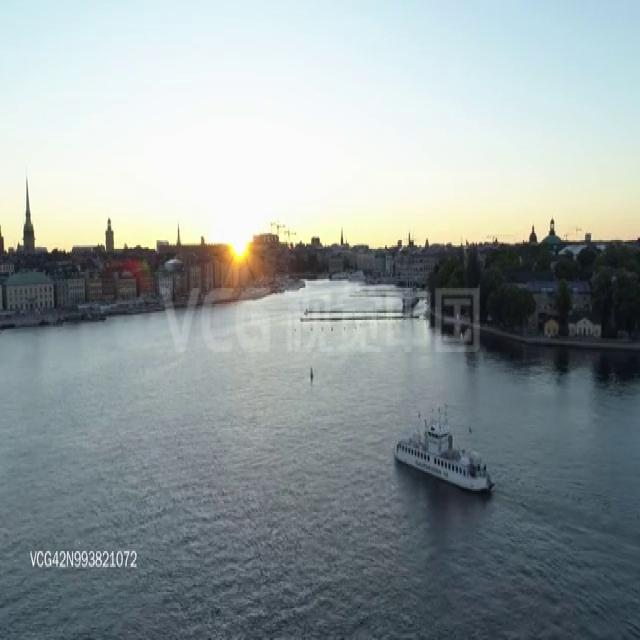passenger ship: (396, 398, 496, 504)
